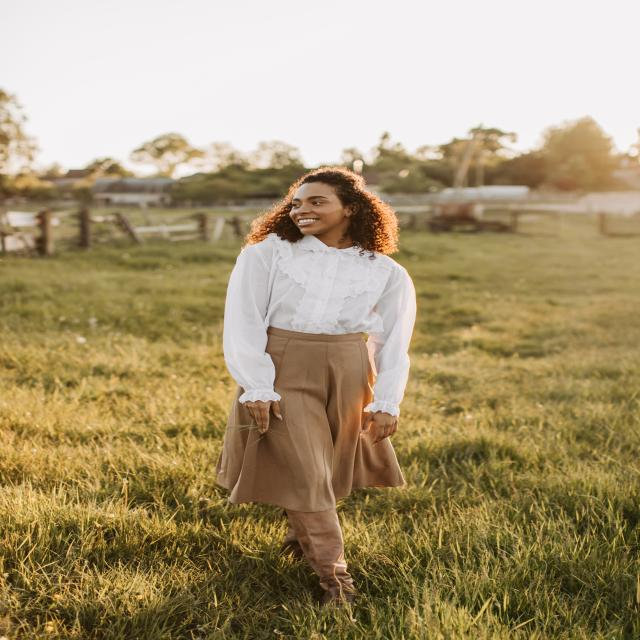standing: (195, 166, 423, 592)
